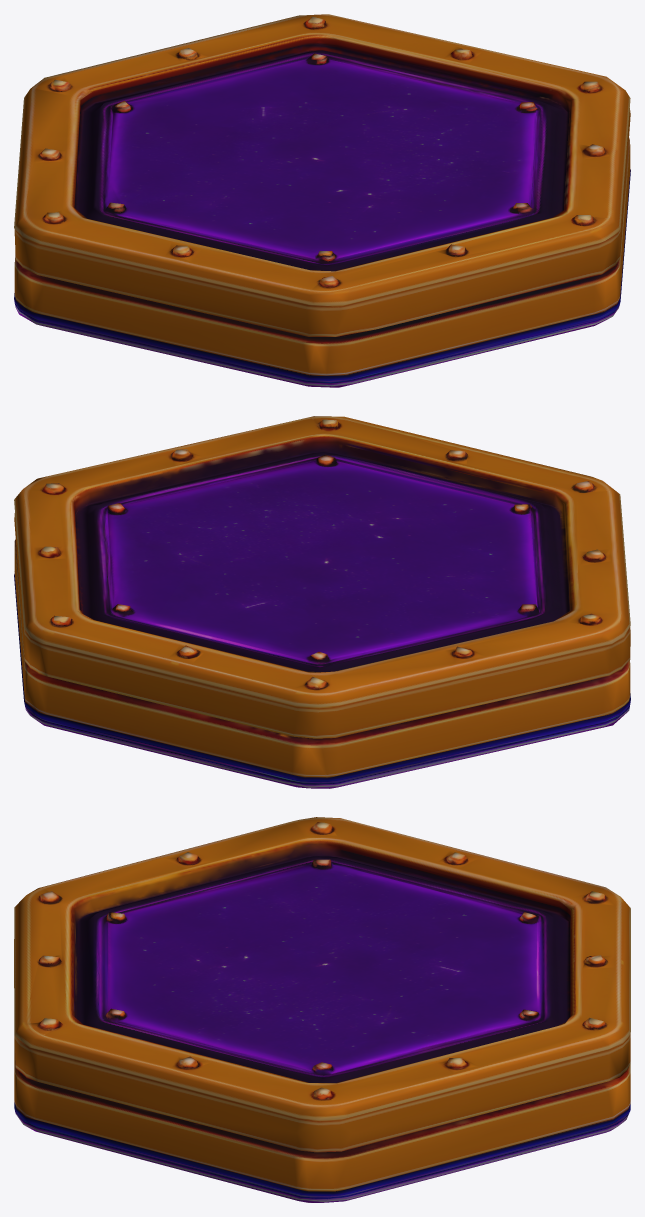
The model's file is Q_tile_01.glb.
3 renders of one model, top to bottom at view 1: azimuth 30°, elevation 25°; view 2: azimuth 150°, elevation 25°; view 3: azimuth 270°, elevation 25°, orthographic.
Parts seen in each view (by area): view 1: Prp_Oth_ClaudeQuackTile_Lod0; view 2: Prp_Oth_ClaudeQuackTile_Lod0; view 3: Prp_Oth_ClaudeQuackTile_Lod0.
Part boxes in pixels (<box>): Prp_Oth_ClaudeQuackTile_Lod0: <box>14,14,630,387</box>; Prp_Oth_ClaudeQuackTile_Lod0: <box>14,416,630,788</box>; Prp_Oth_ClaudeQuackTile_Lod0: <box>14,817,630,1202</box>.
Size of the model in its own units: 0.4488 by 0.074 by 0.3926.
Materials: 1 (1 with a texture image).
